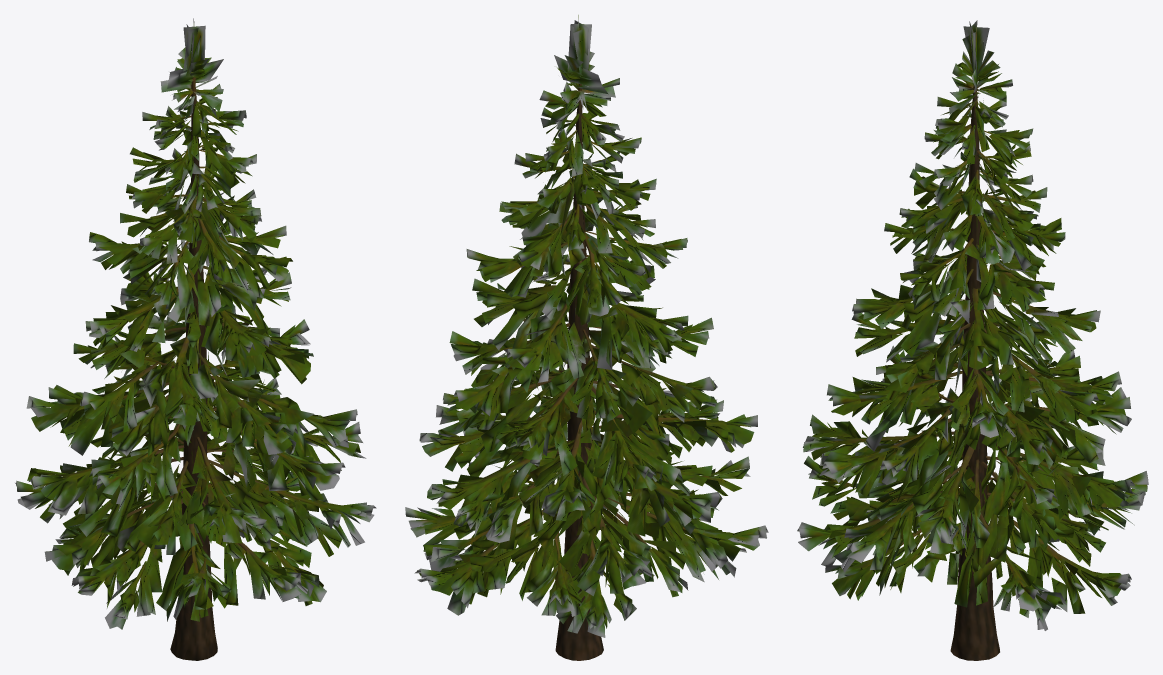
The model's file is meadow_1.glb.
The picture shows the model from 3 angles, left to right: view 1: azimuth 30°, elevation 25°; view 2: azimuth 150°, elevation 25°; view 3: azimuth 270°, elevation 25°; orthographic projection.
Visible parts, largest first — view 1: geometry_0; view 2: geometry_0; view 3: geometry_0.
Boxes of the visible parts, x1=… form: geometry_0: x1=15, y1=18, x2=376, y2=660; geometry_0: x1=405, y1=15, x2=768, y2=660; geometry_0: x1=797, y1=20, x2=1148, y2=660.
Bounding box in the file's own units: 0.4824 × 0.9526 × 0.4761.
Materials: 1 (1 with a texture image).
